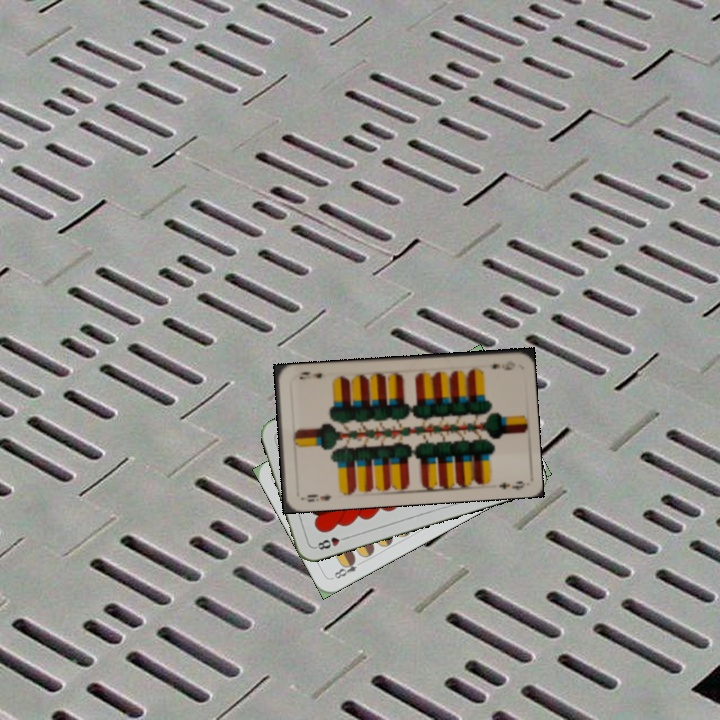E8: (328, 555, 366, 582)
E9: (298, 490, 334, 505), (487, 357, 518, 373)
H8: (311, 532, 351, 552)
